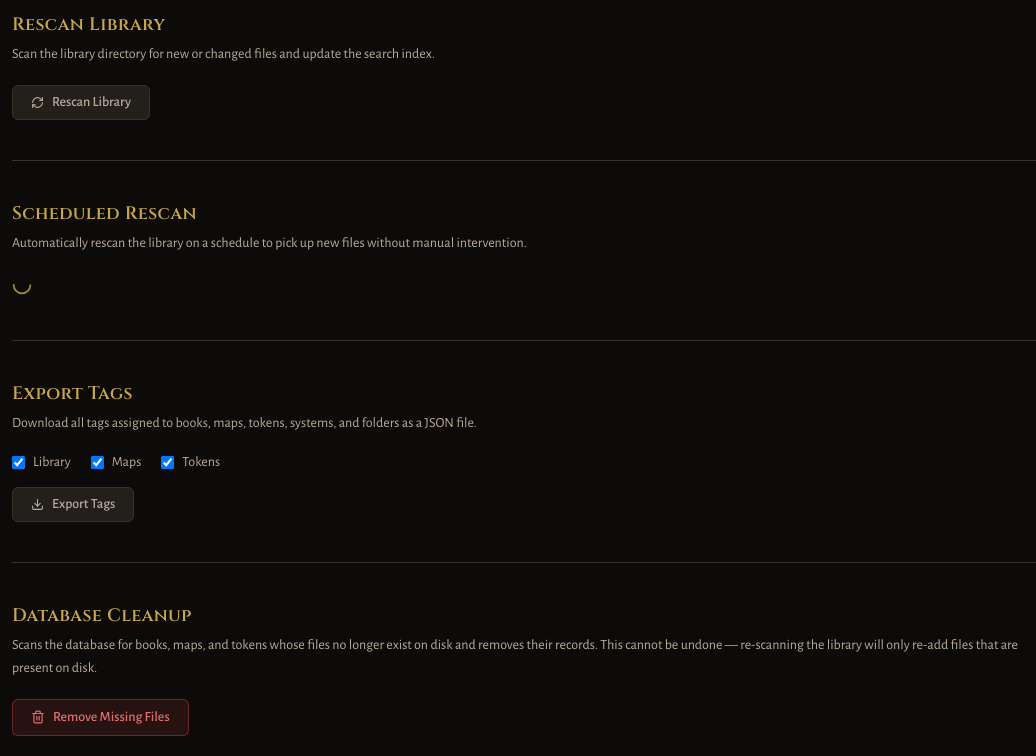
Test: MaintenanceTab — ExportTagsSection › disables the button when all checkboxes are unchecked
What coordinates should you click on to do the following:
click the checkbox labelled "Library"
I would click on:
 (18, 463)
Its box is [12, 456, 25, 469].
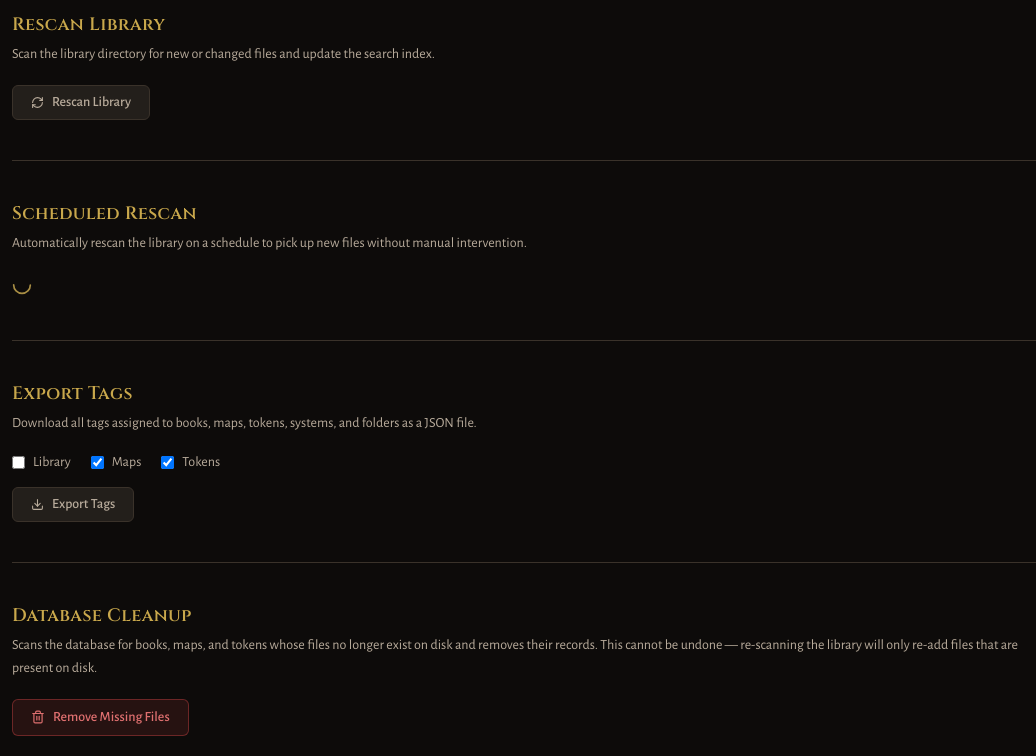
What coordinates should you click on to do the following:
click the checkbox labelled "Maps"
I would click on:
 (97, 463)
Its box is [91, 456, 104, 469].
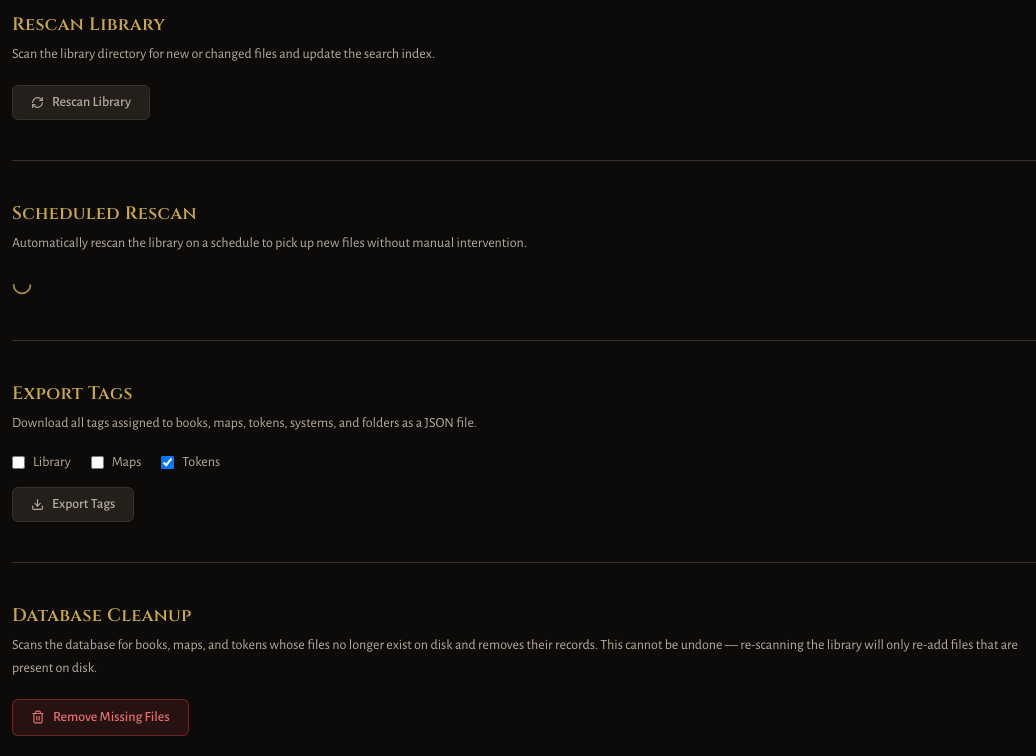
What coordinates should you click on to do the following:
click the checkbox labelled "Tokens"
I would click on:
 (168, 463)
Its box is [161, 456, 174, 469].
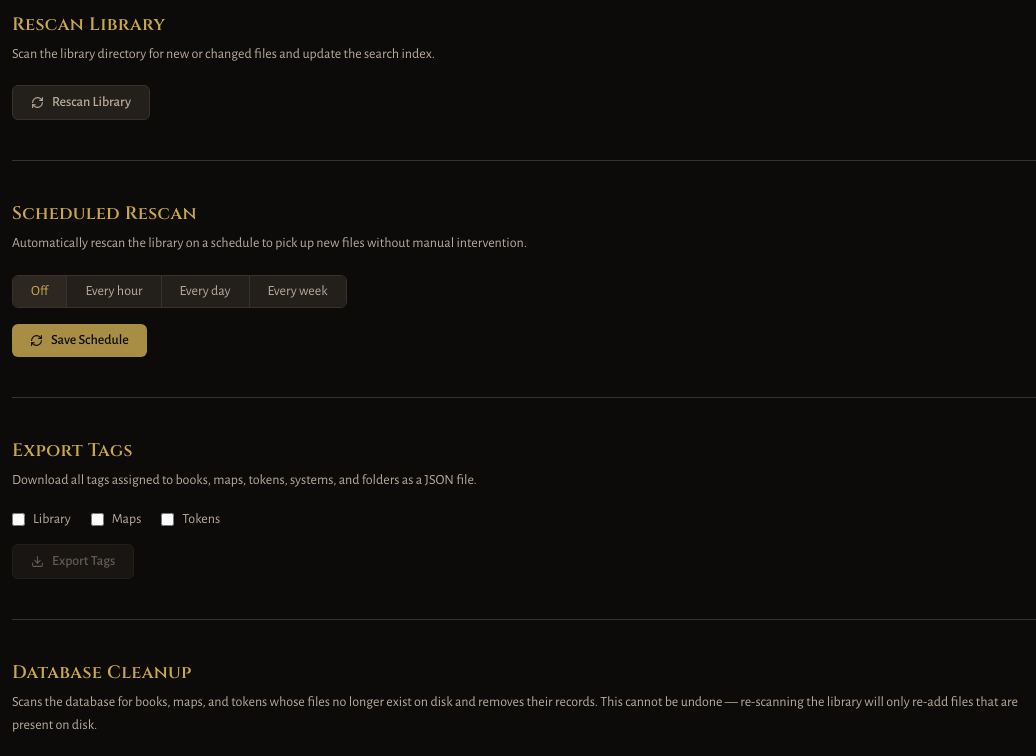
Expected: the button "Export Tags" is disabled, [12, 544, 134, 579]
